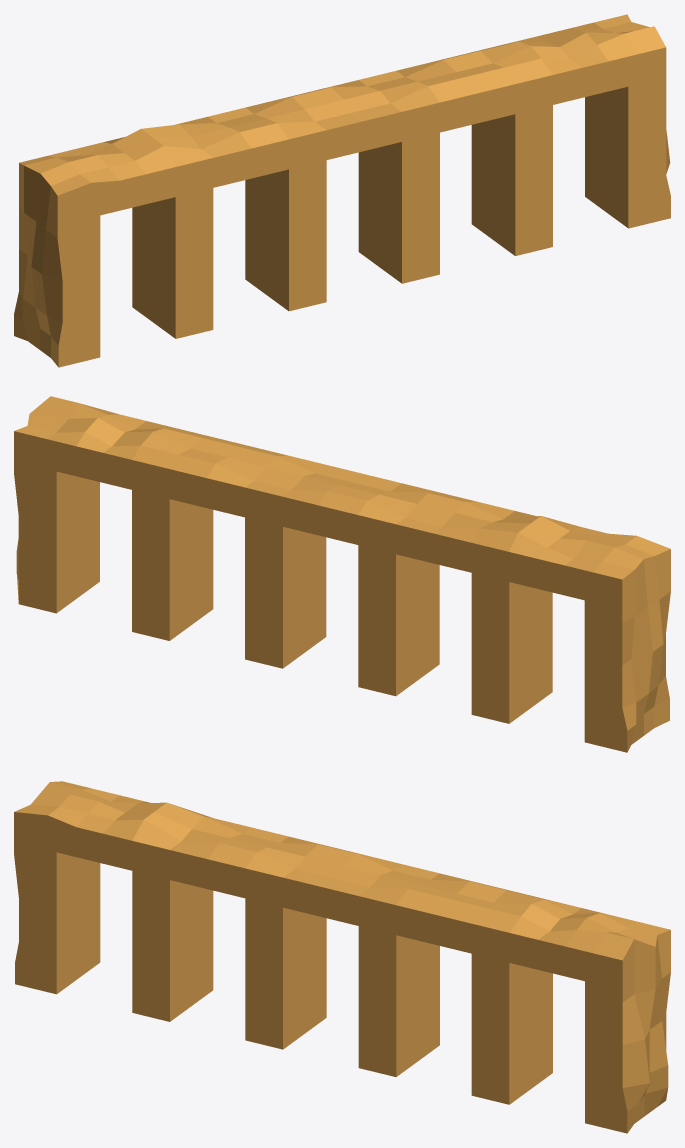
Rendered from cinco_passagens.fbx.
The picture shows the model from 3 angles, top to bottom: view 1: azimuth 30°, elevation 25°; view 2: azimuth 150°, elevation 25°; view 3: azimuth 330°, elevation 25°; orthographic projection.
Parts seen in each view (by area): view 1: cinco passagens; view 2: cinco passagens; view 3: cinco passagens.
Part boxes in pixels (left/top/right/bottom): cinco passagens: left=14, top=14, right=670, bottom=367; cinco passagens: left=14, top=396, right=670, bottom=752; cinco passagens: left=14, top=781, right=670, bottom=1133.
Size of the model in its own units: 16654 by 4681 by 2000.
